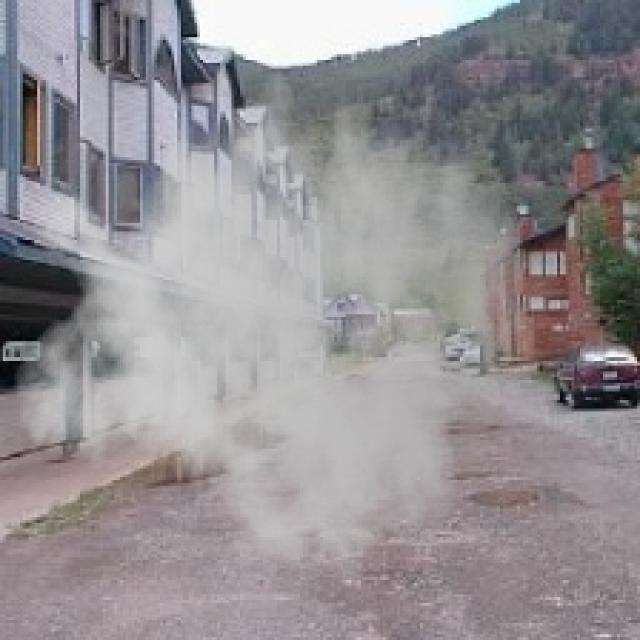smoke: (11, 40, 528, 600)
